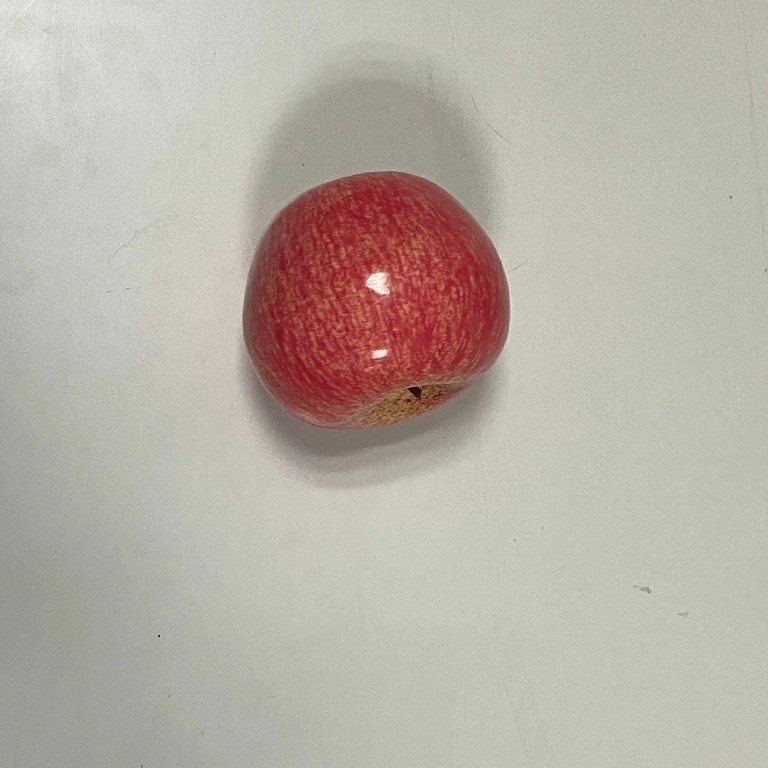fruit_apple: (237, 165, 517, 435)
